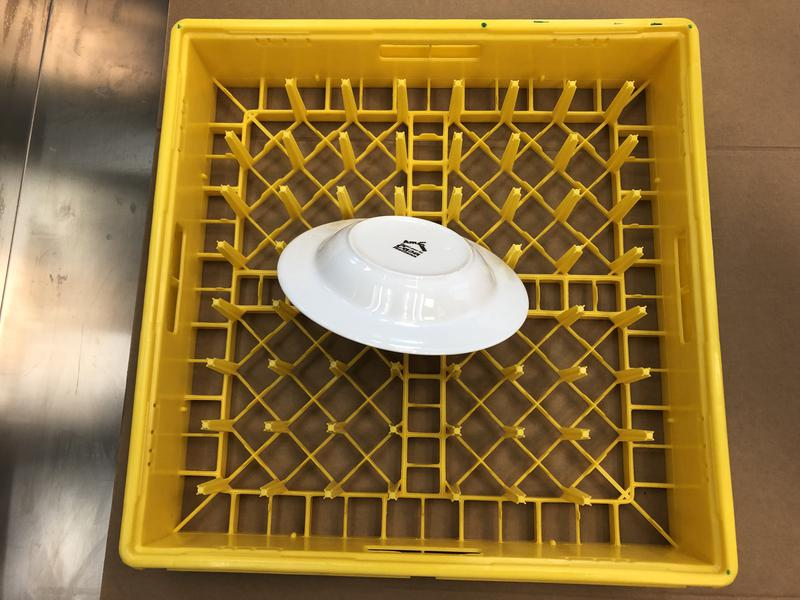Inclined_dish: (276, 216, 529, 355)
